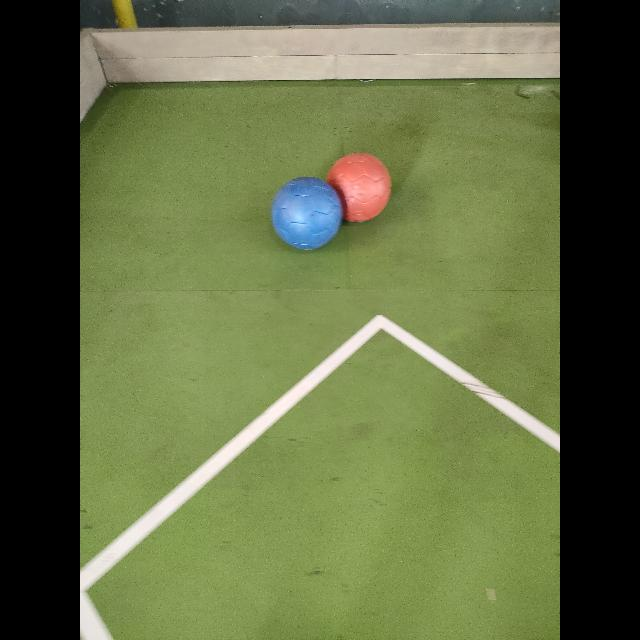B: (271, 178, 342, 249)
R: (326, 152, 391, 222)
